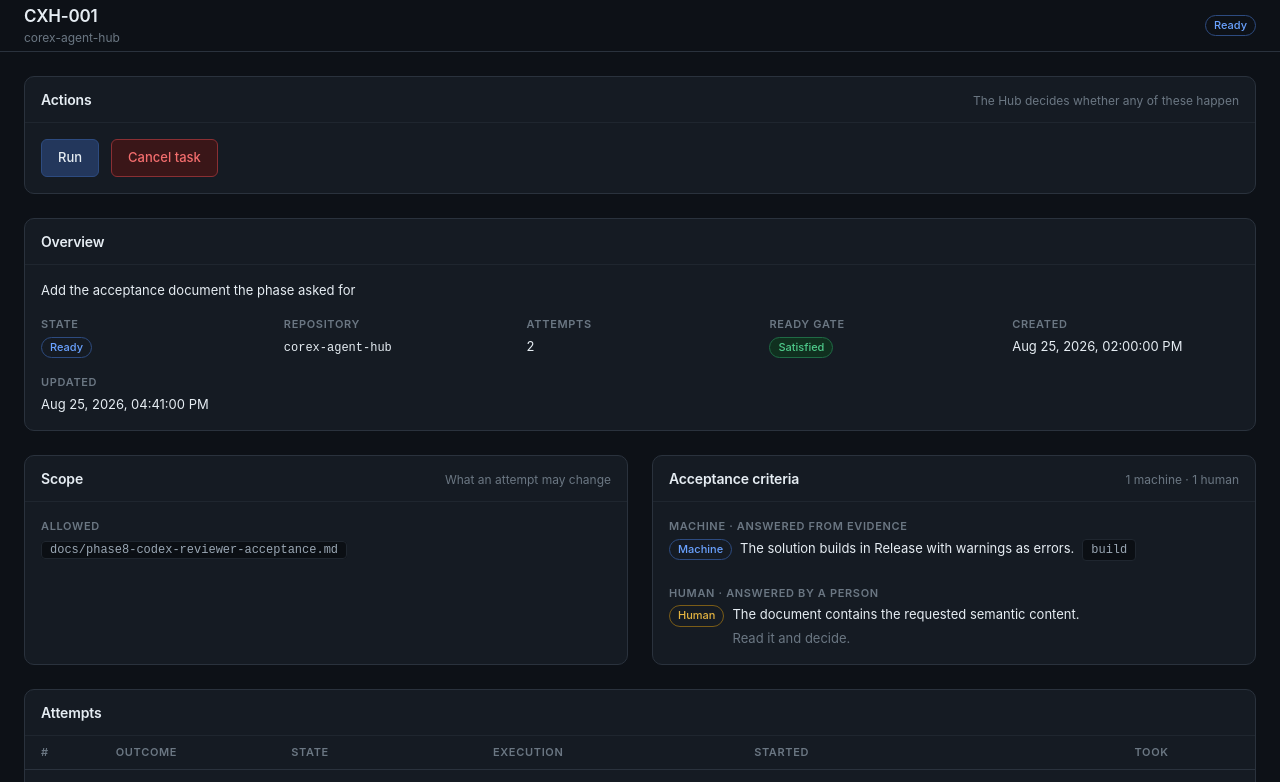
it: Task actions › shows the refusal when a stale page tries to run something already running
The image size is (1280, 782).
Click the button "Run": (70, 158) left=41, top=139, right=99, bottom=176
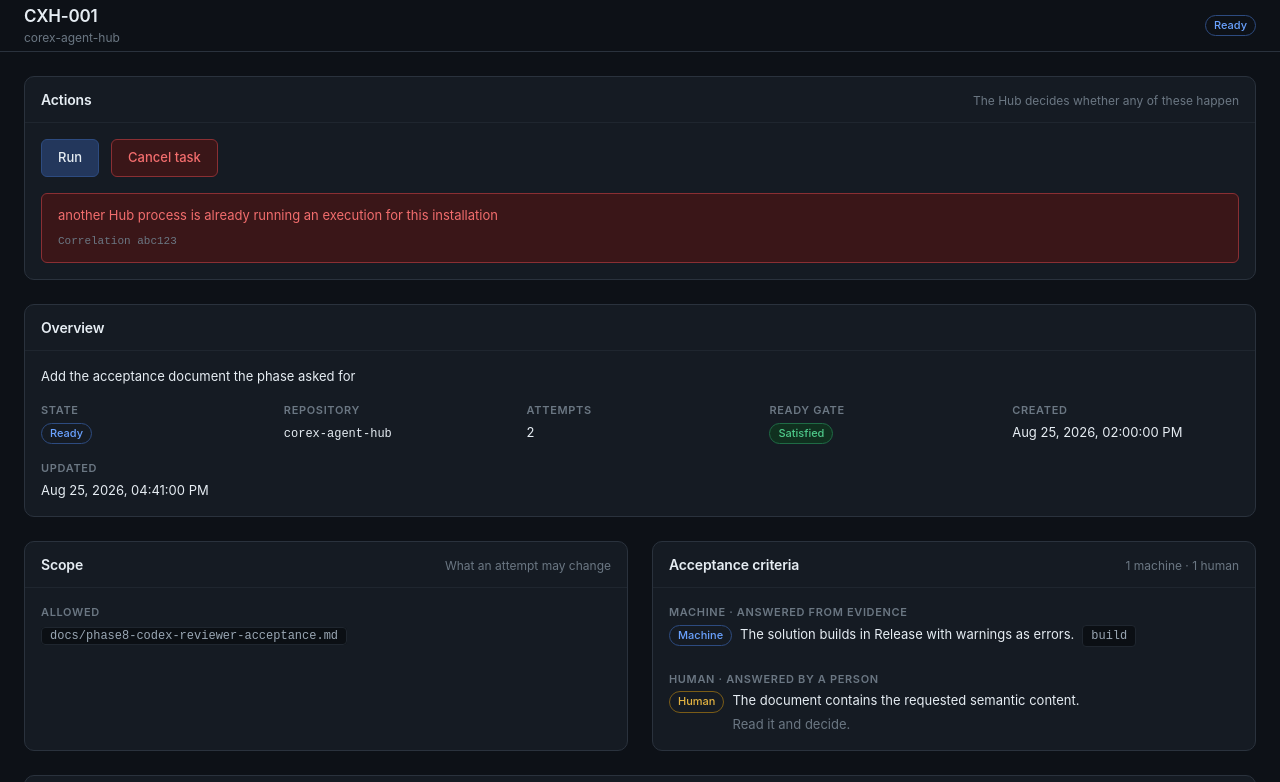
Now the message shows "another Hub process is already running an execution", box left=58, top=206, right=498, bottom=222
